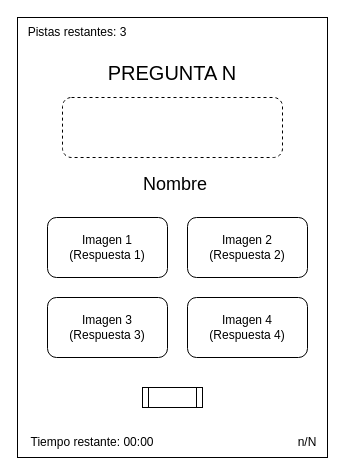
This 345x475 diagram has some shape labels left out. Here are the shapes that lost their labels. From the top down, the centre of each, then its label:
At [172,127]: "Enunciado de la pregunta".
At [172,397]: "Pista".
